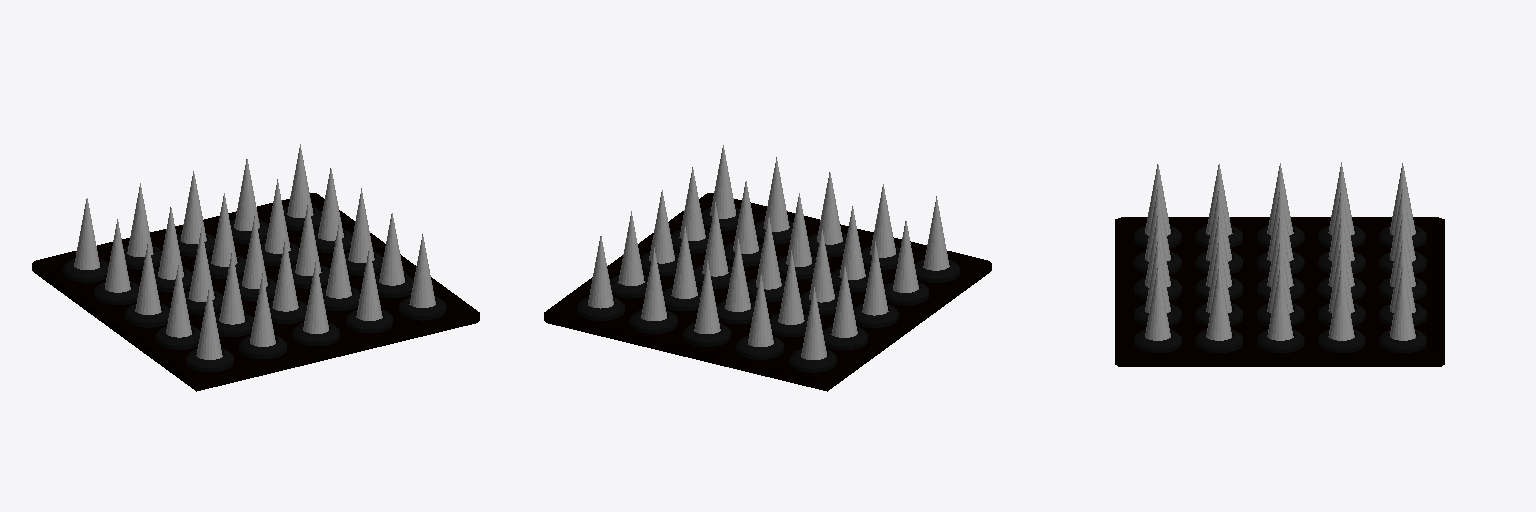
Rendered from spike_trap.obj.
3 views of the same model, side by side, from view 1: azimuth 30°, elevation 25°; view 2: azimuth 150°, elevation 25°; view 3: azimuth 270°, elevation 25° (orthographic).
Visible parts, largest first — view 1: Cone, Cube, Cylinder; view 2: Cone, Cube, Cylinder; view 3: Cube, Cone, Cylinder.
Part boxes in pixels (bbox=[...]): Cone: bbox=[74, 144, 435, 359]; Cube: bbox=[32, 193, 479, 391]; Cylinder: bbox=[63, 207, 446, 371]; Cone: bbox=[588, 145, 949, 359]; Cube: bbox=[544, 193, 991, 391]; Cylinder: bbox=[577, 207, 959, 372]; Cube: bbox=[1115, 217, 1444, 366]; Cone: bbox=[1145, 162, 1415, 340]; Cylinder: bbox=[1134, 225, 1426, 352].
Size of the model in its own units: 10 by 2.8 by 10.